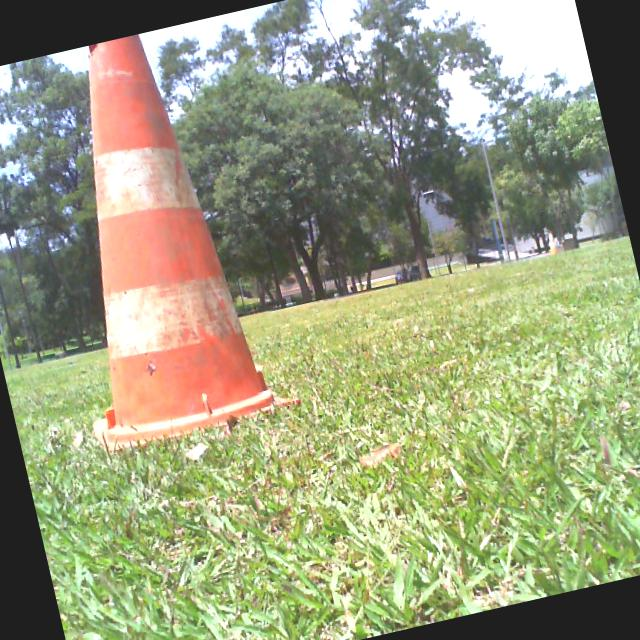cone: (8, 18, 302, 456)
